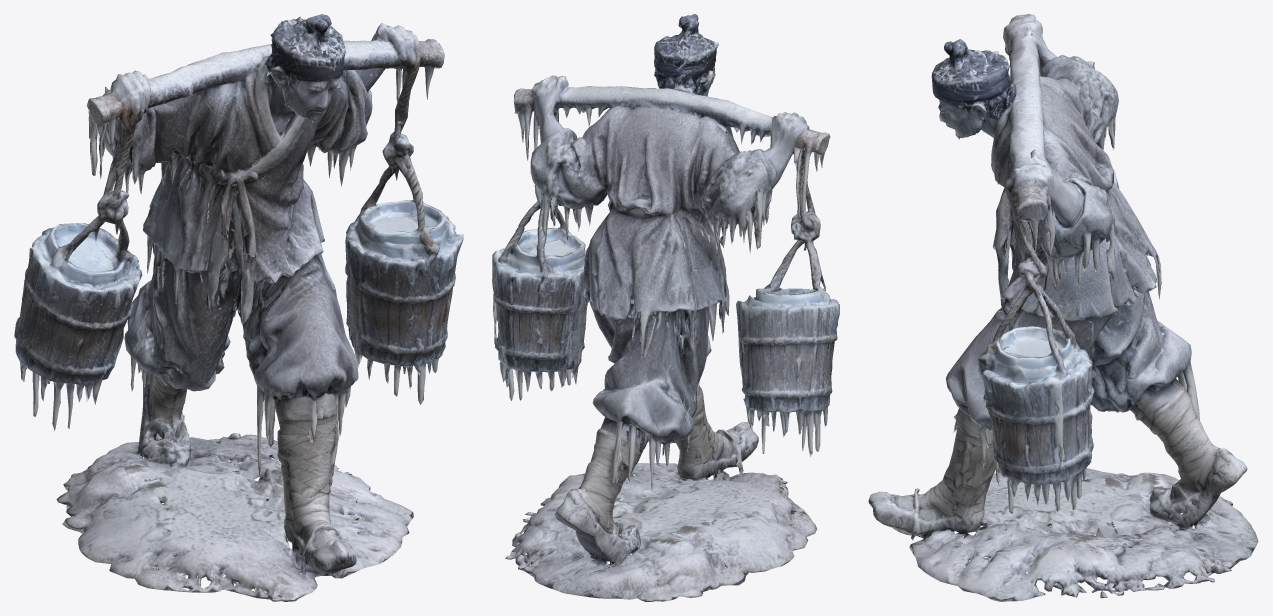
File: PR_FrozenVillager_WaterCarrier.fbx
3 views of the same model, side by side, from view 1: azimuth 30°, elevation 25°; view 2: azimuth 150°, elevation 25°; view 3: azimuth 270°, elevation 25° (orthographic). The views are drawn at different scales.
Parts seen in each view (by area): view 1: texture_mapping; view 2: texture_mapping; view 3: texture_mapping.
Boxes of the visible parts, x1,y1,x2,y2 form: texture_mapping: (14, 14, 463, 601); texture_mapping: (492, 14, 839, 601); texture_mapping: (868, 14, 1258, 601).
Size of the model in its own units: 0.7786 by 0.697 by 1.
1 material, 1 textured.
